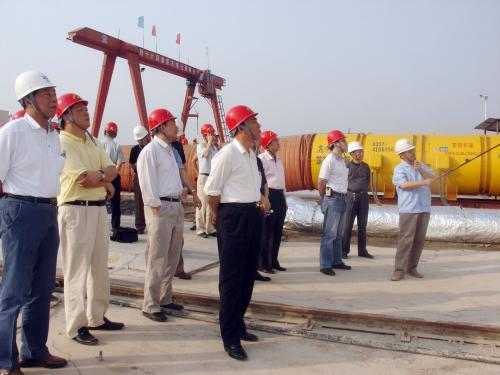helmet: (13, 65, 57, 122), (223, 102, 260, 147), (59, 93, 92, 134), (145, 107, 178, 144), (391, 136, 423, 165), (257, 126, 286, 156), (324, 128, 349, 153), (133, 124, 152, 151), (348, 139, 366, 163), (199, 121, 216, 145), (101, 119, 120, 139)
